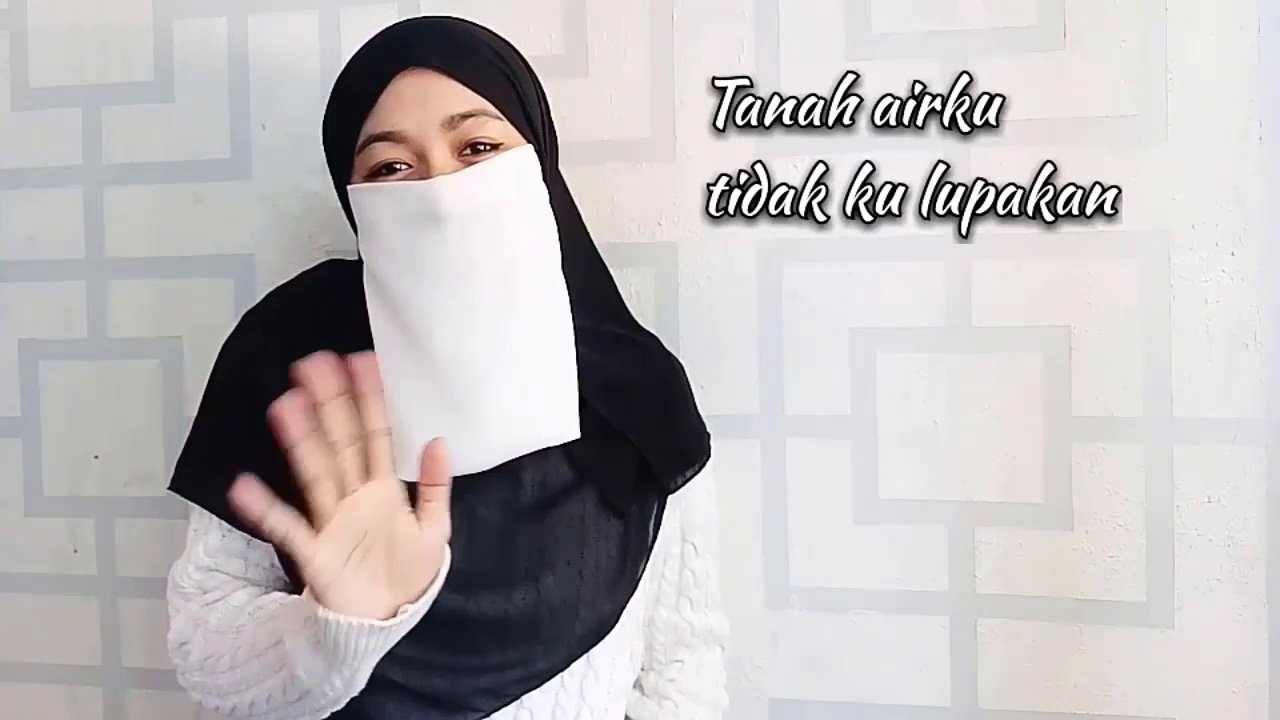TIDAK: (173, 339, 465, 720), (181, 352, 182, 365)
